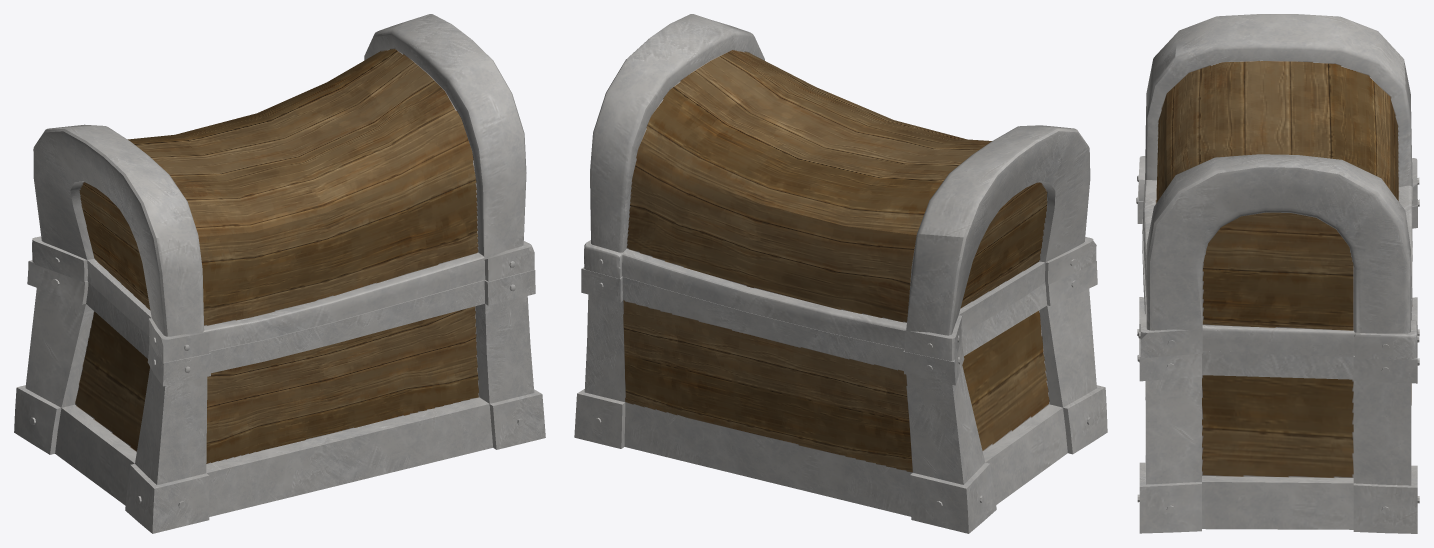
Rendered from Chest.glb.
3 views of the same model, side by side, from view 1: azimuth 30°, elevation 25°; view 2: azimuth 150°, elevation 25°; view 3: azimuth 270°, elevation 25° (orthographic).
Parts seen in each view (by area): view 1: Cube; view 2: Cube; view 3: Cube.
Boxes of the visible parts, x1,y1,x2,y2 form: Cube: (14,14,545,533); Cube: (574,14,1107,533); Cube: (1136,14,1419,533).
Size of the model in its own units: 2.95 by 2.58 by 1.83.
Materials: 1 (1 with a texture image).
